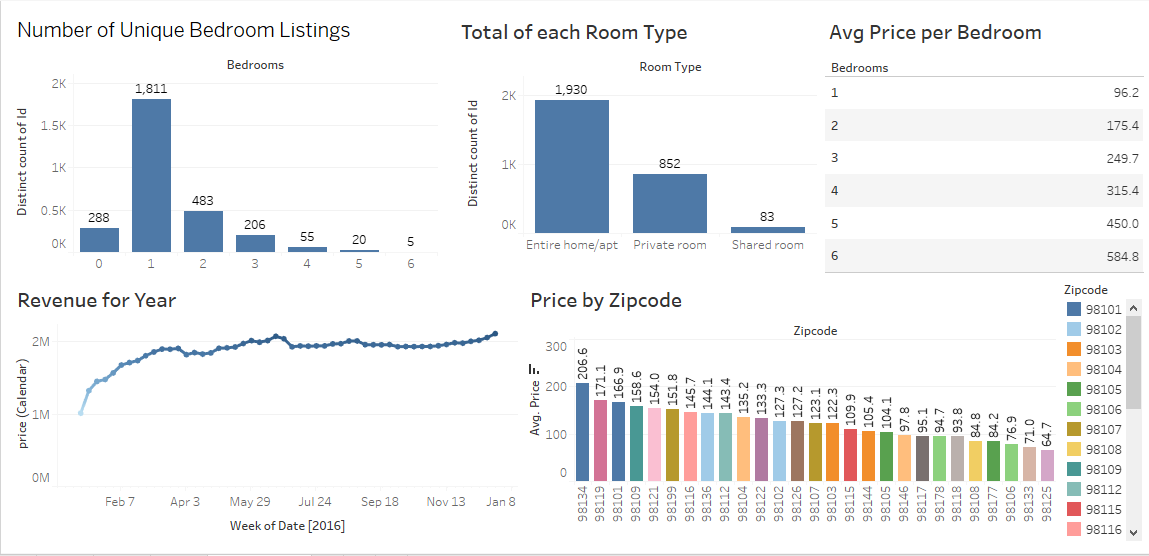

The dashboard page shown, as its layout file describes it:
{"tool":"tableau","page":{"name":"Dashboard 1","canvas":[1000,1000],"units":"permille","ordinal":0},"visuals":[{"type":"worksheet","title":"Sheet 5","mark":"Bar","rows":["id"],"cols":["bedrooms"],"box":[6.9,14.5,384.4,485.5]},{"type":"worksheet","title":"Sheet 2","mark":"Bar","rows":["id"],"cols":["room_type"],"box":[391.3,14.5,318.6,485.5]},{"type":"worksheet","title":"Sheet 4","mark":"Automatic","rows":["bedrooms"],"box":[710,14.5,283.1,485.5]},{"type":"worksheet","title":"Sheet 3","mark":"Automatic","rows":["price (Calendar)"],"cols":["date"],"box":[6.9,500,444.2,485.5]},{"type":"worksheet","title":"Sheet 1","mark":"Automatic","rows":["price"],"cols":["zipcode"],"box":[451.1,500,465.8,485.5]},{"type":"legend","title":"Sheet 1","param":"[federated.0u522ay0kx3s081az800x05vjbet].[none:zipcode:ok]","box":[916.9,500,76.2,485.5]}]}

Visuals, with their boxes on the dashboard's canvas, which has no fixed pixel size, in thousandths of its width and height (x1, y1, x2, y2). These are canvas units, not pixel positions in the 1149x556 screenshot, which may show the page scaled, cropped or inside an application window:
"Sheet 5" worksheet (Bar marks): <region>7, 14, 391, 500</region>
"Sheet 2" worksheet (Bar marks): <region>391, 14, 710, 500</region>
"Sheet 4" worksheet: <region>710, 14, 993, 500</region>
"Sheet 3" worksheet: <region>7, 500, 451, 986</region>
"Sheet 1" worksheet: <region>451, 500, 917, 986</region>
"Sheet 1" legend: <region>917, 500, 993, 986</region>
